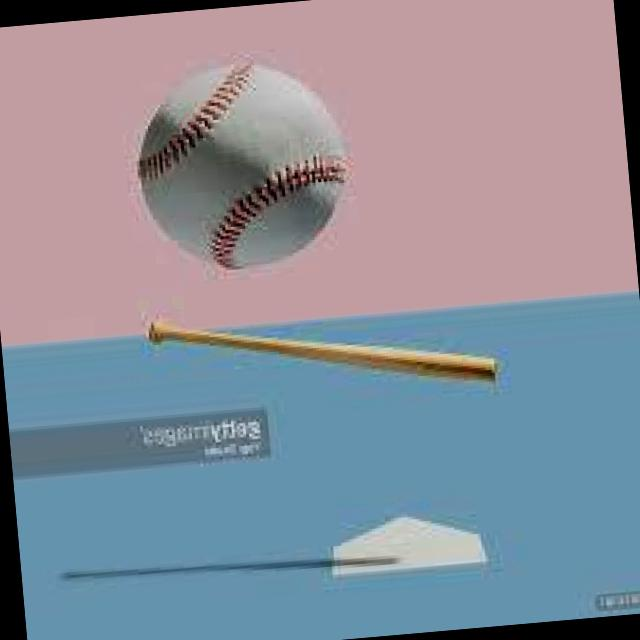ball: (114, 47, 376, 286)
